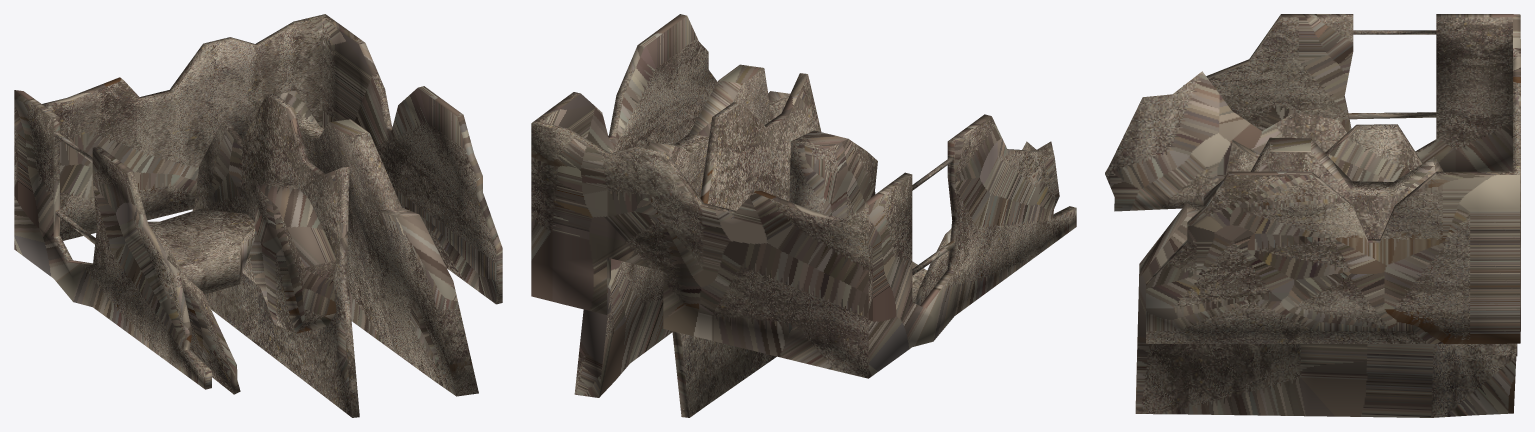
File: EdificioRuinas1.obj
3 renders of one model, left to right at view 1: azimuth 30°, elevation 25°; view 2: azimuth 150°, elevation 25°; view 3: azimuth 270°, elevation 25°, orthographic. The views are drawn at different scales.
Parts seen in each view (by area): view 1: EdificioRuinas002; view 2: EdificioRuinas002; view 3: EdificioRuinas002.
Boxes of the visible parts, bbox=[...] form: EdificioRuinas002: bbox=[14, 14, 502, 417]; EdificioRuinas002: bbox=[531, 14, 1076, 417]; EdificioRuinas002: bbox=[1105, 14, 1520, 417].
Size of the model in its own units: 88.3 by 65.84 by 96.32.
